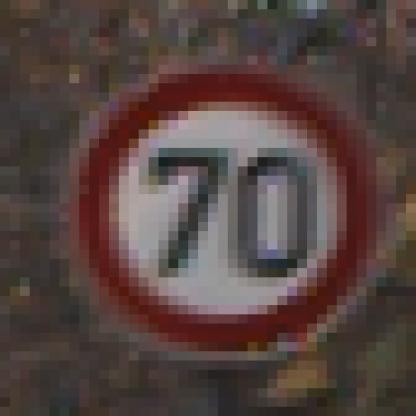Speed Limit 70: (79, 69, 372, 351)
